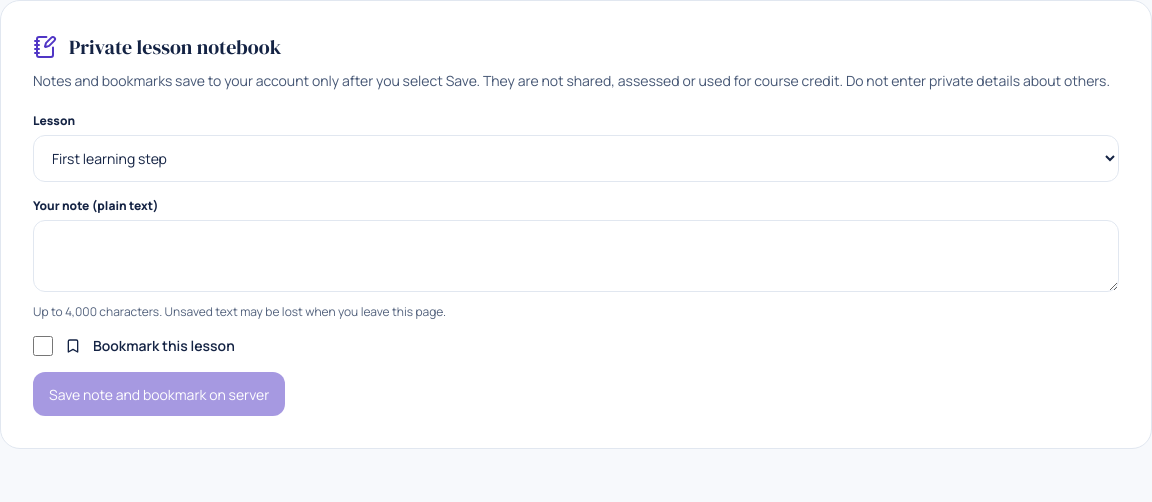
private, server-saved lesson notebook › loads an empty server record, persists an original note/bookmark and never claims course credit
The image size is (1152, 502).
Step 1. Type "I explained it in my own words." into the text box labelled "Your note (plain text)" → (576, 256), box [33,220,1119,292]
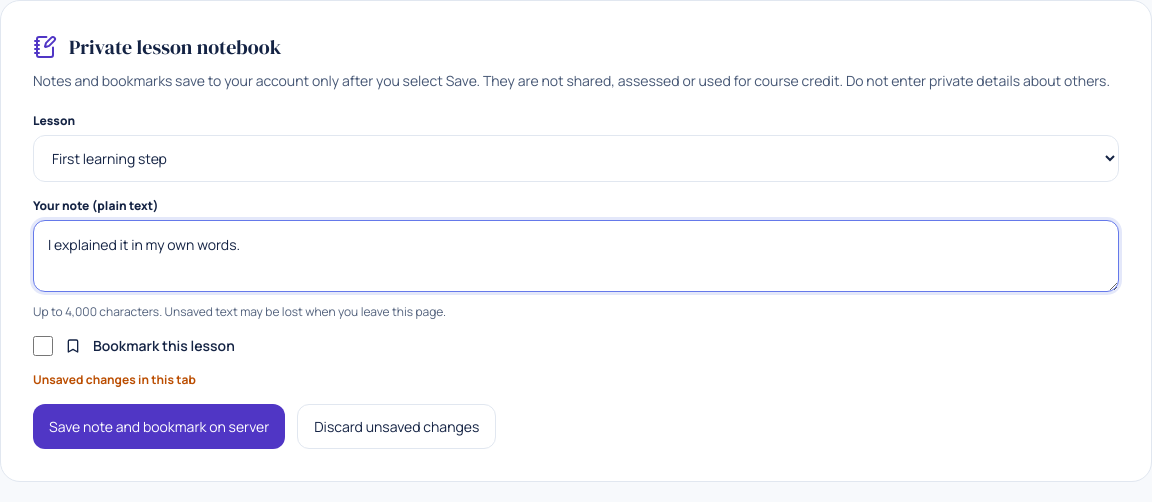
Step 2. Click the checkbox labelled "Bookmark this lesson" → (43, 346), box [33,336,53,356]
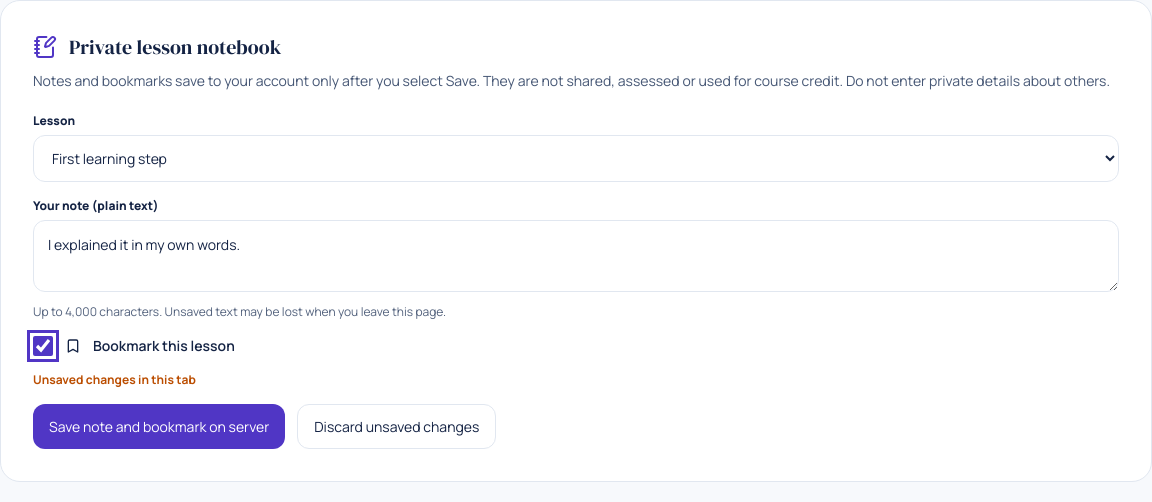
Step 3. Click the button "Save note and bookmark on server" → (159, 427), box [33,404,285,449]
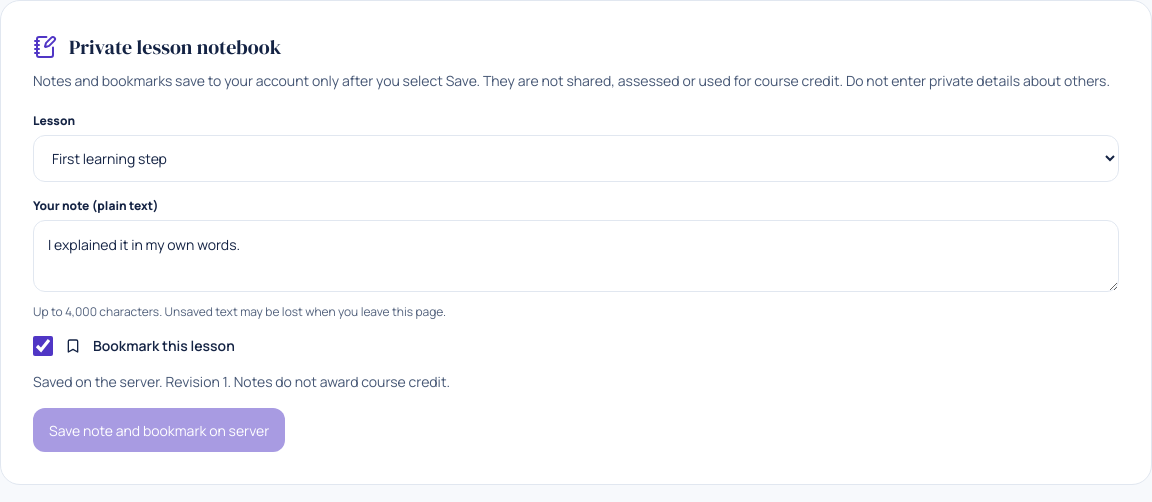
Expected: the text "Saved on the server. Revision 1. Notes do not award course credit." is shown, [33,372,450,391]
Expected: the text "Unsaved changes in this tab" is gone
